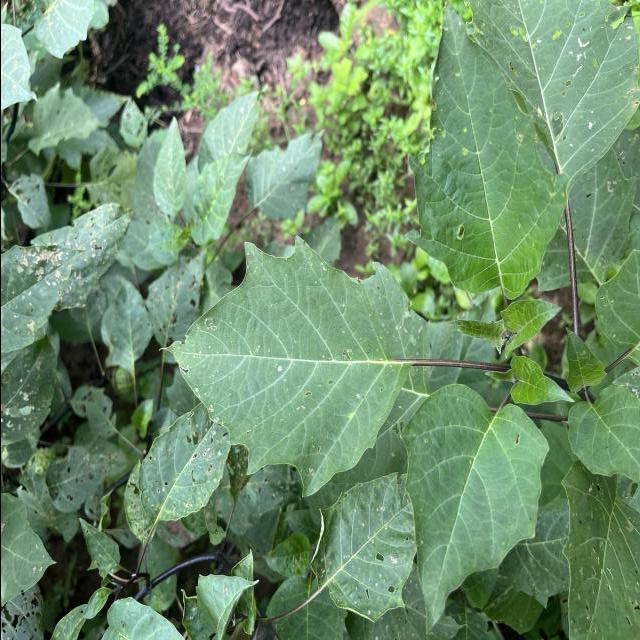Datura metal linn: (153, 228, 421, 502), (402, 0, 574, 303), (397, 382, 551, 638), (498, 298, 564, 362), (507, 353, 576, 408), (562, 324, 608, 395)
